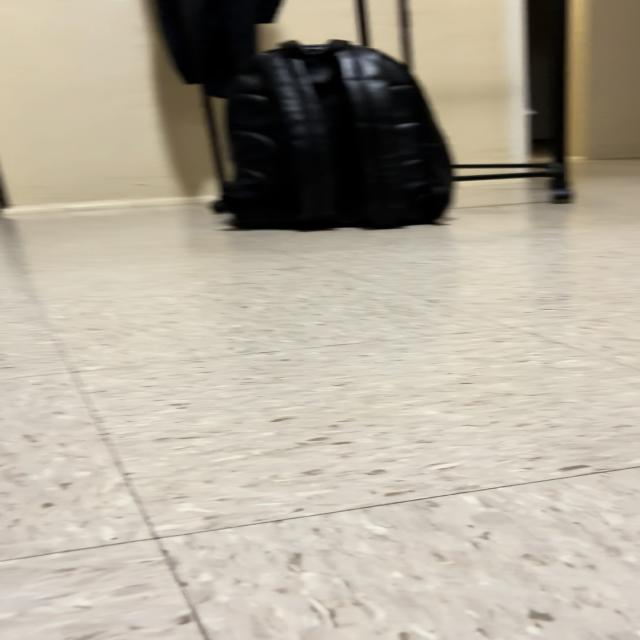backpack: (224, 41, 452, 229)
